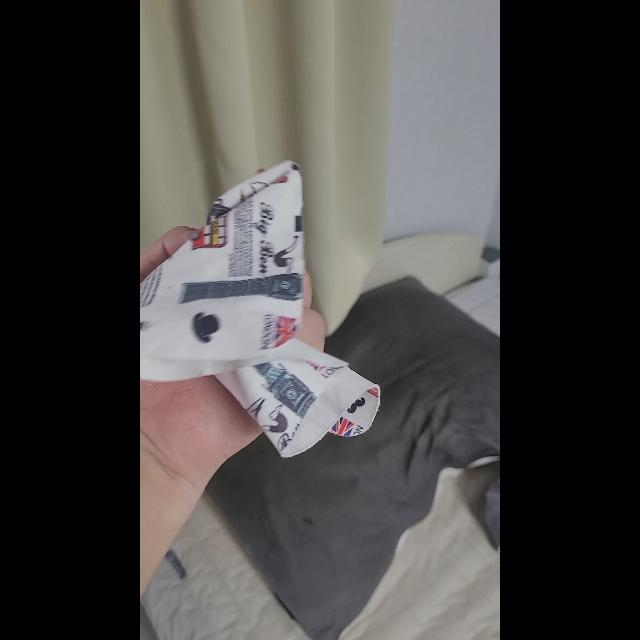Glasses cleaning cloth: (140, 160, 382, 460)
